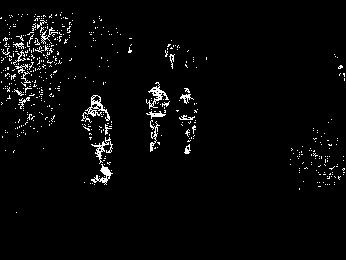person: (82, 94, 118, 184), (178, 83, 200, 158), (147, 81, 169, 153)
